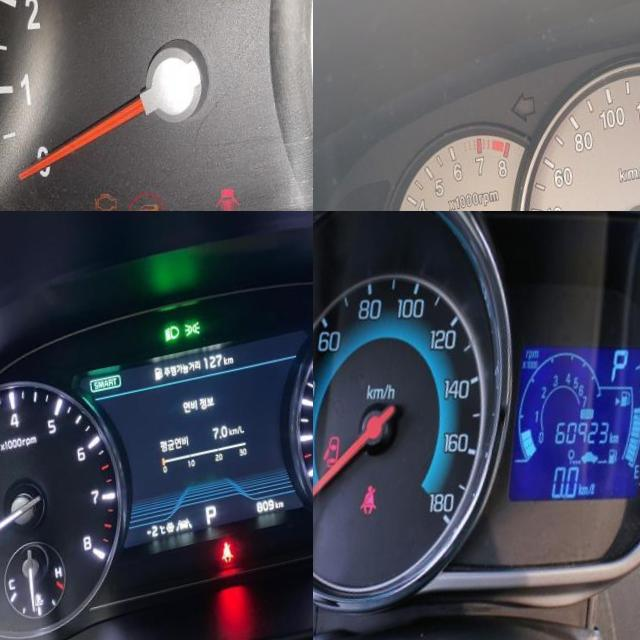Doors: (313, 439, 334, 476), (204, 200, 231, 211)
Low beam: (156, 337, 174, 355)
SideLamp: (177, 334, 194, 352)
